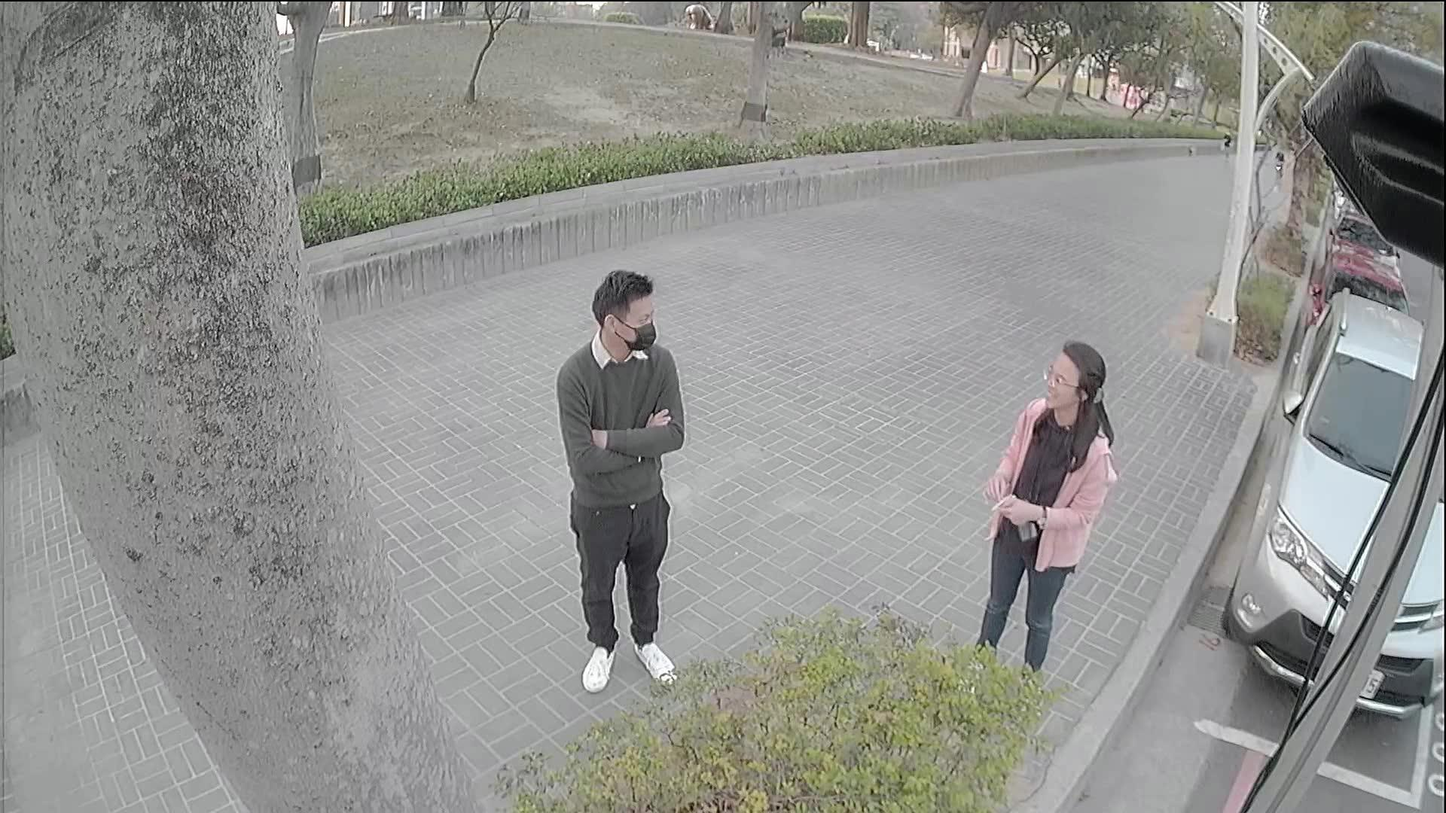person: (977, 342, 1122, 688), (559, 273, 678, 680)
